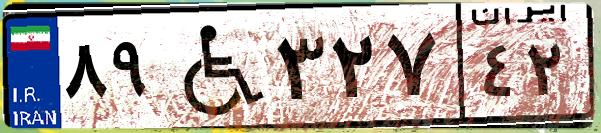2: (330, 28, 385, 110), (525, 38, 570, 115)
3: (270, 28, 330, 110)
4: (475, 38, 525, 113)
7: (385, 28, 445, 110)
8: (57, 26, 110, 100)
9: (110, 28, 158, 98)
ژ (معلولین و جانبازان): (158, 12, 270, 120)
